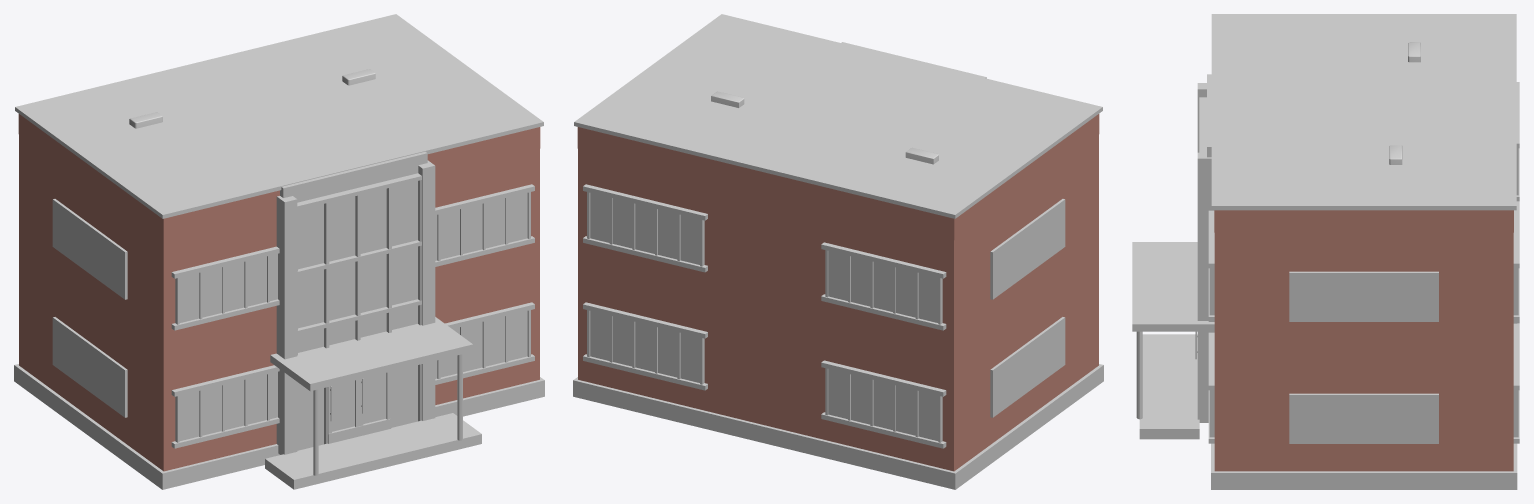
The model's file is lm_gateway.full.glb.
The picture shows the model from 3 angles, left to right: view 1: azimuth 30°, elevation 25°; view 2: azimuth 150°, elevation 25°; view 3: azimuth 270°, elevation 25°; orthographic projection. The views are drawn at different scales.
Parts seen in each view (by area): view 1: lm_gateway; view 2: lm_gateway; view 3: lm_gateway.
Part boxes in pixels (bbox=[...]): lm_gateway: bbox=[14, 14, 544, 489]; lm_gateway: bbox=[573, 14, 1103, 489]; lm_gateway: bbox=[1132, 14, 1519, 489].
Bounding box in the file's own units: 21.35 × 14.96 × 18.13.
